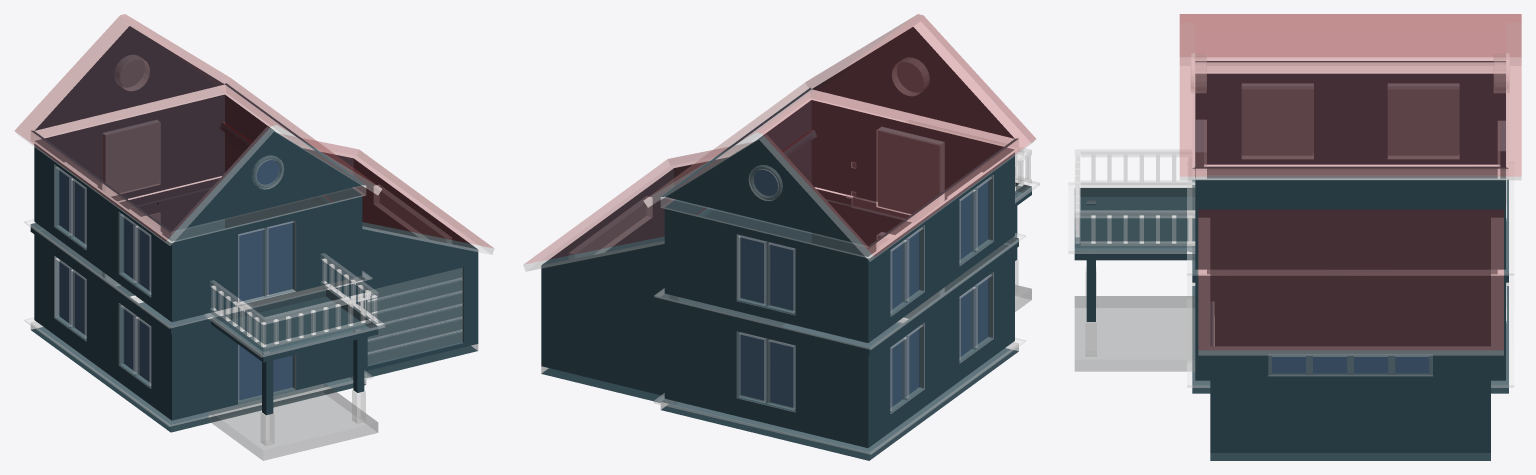
Rendered from HouseMD.gltf.
3 renders of one model, left to right at view 1: azimuth 30°, elevation 25°; view 2: azimuth 150°, elevation 25°; view 3: azimuth 270°, elevation 25°, orthographic. The views are drawn at different scales.
Parts seen in each view (by area): view 1: 6H1; view 2: 6H1; view 3: 6H1.
Part boxes in pixels (x1,y1,x2,y2): 6H1: (15,14,494,460); 6H1: (523,14,1039,460); 6H1: (1068,14,1521,460).
Size of the model in its own units: 20.64 by 16.88 by 21.3.
